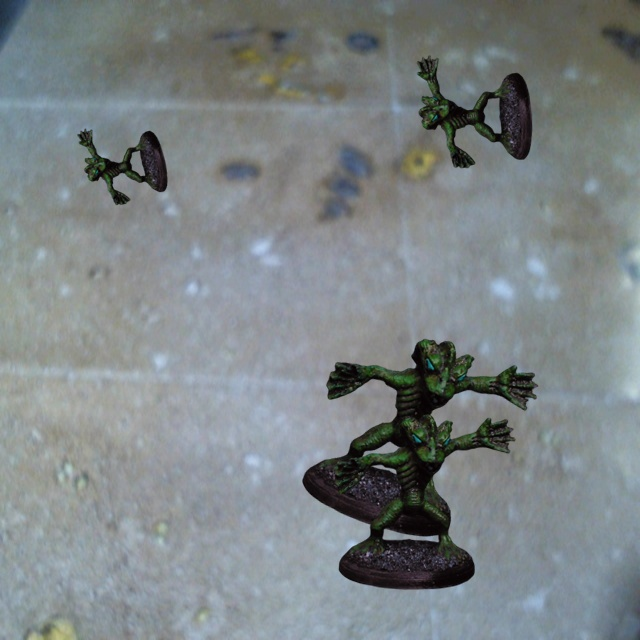pieza_juego: (302, 339, 537, 536), (334, 414, 515, 589), (417, 55, 531, 167), (77, 128, 167, 204)
